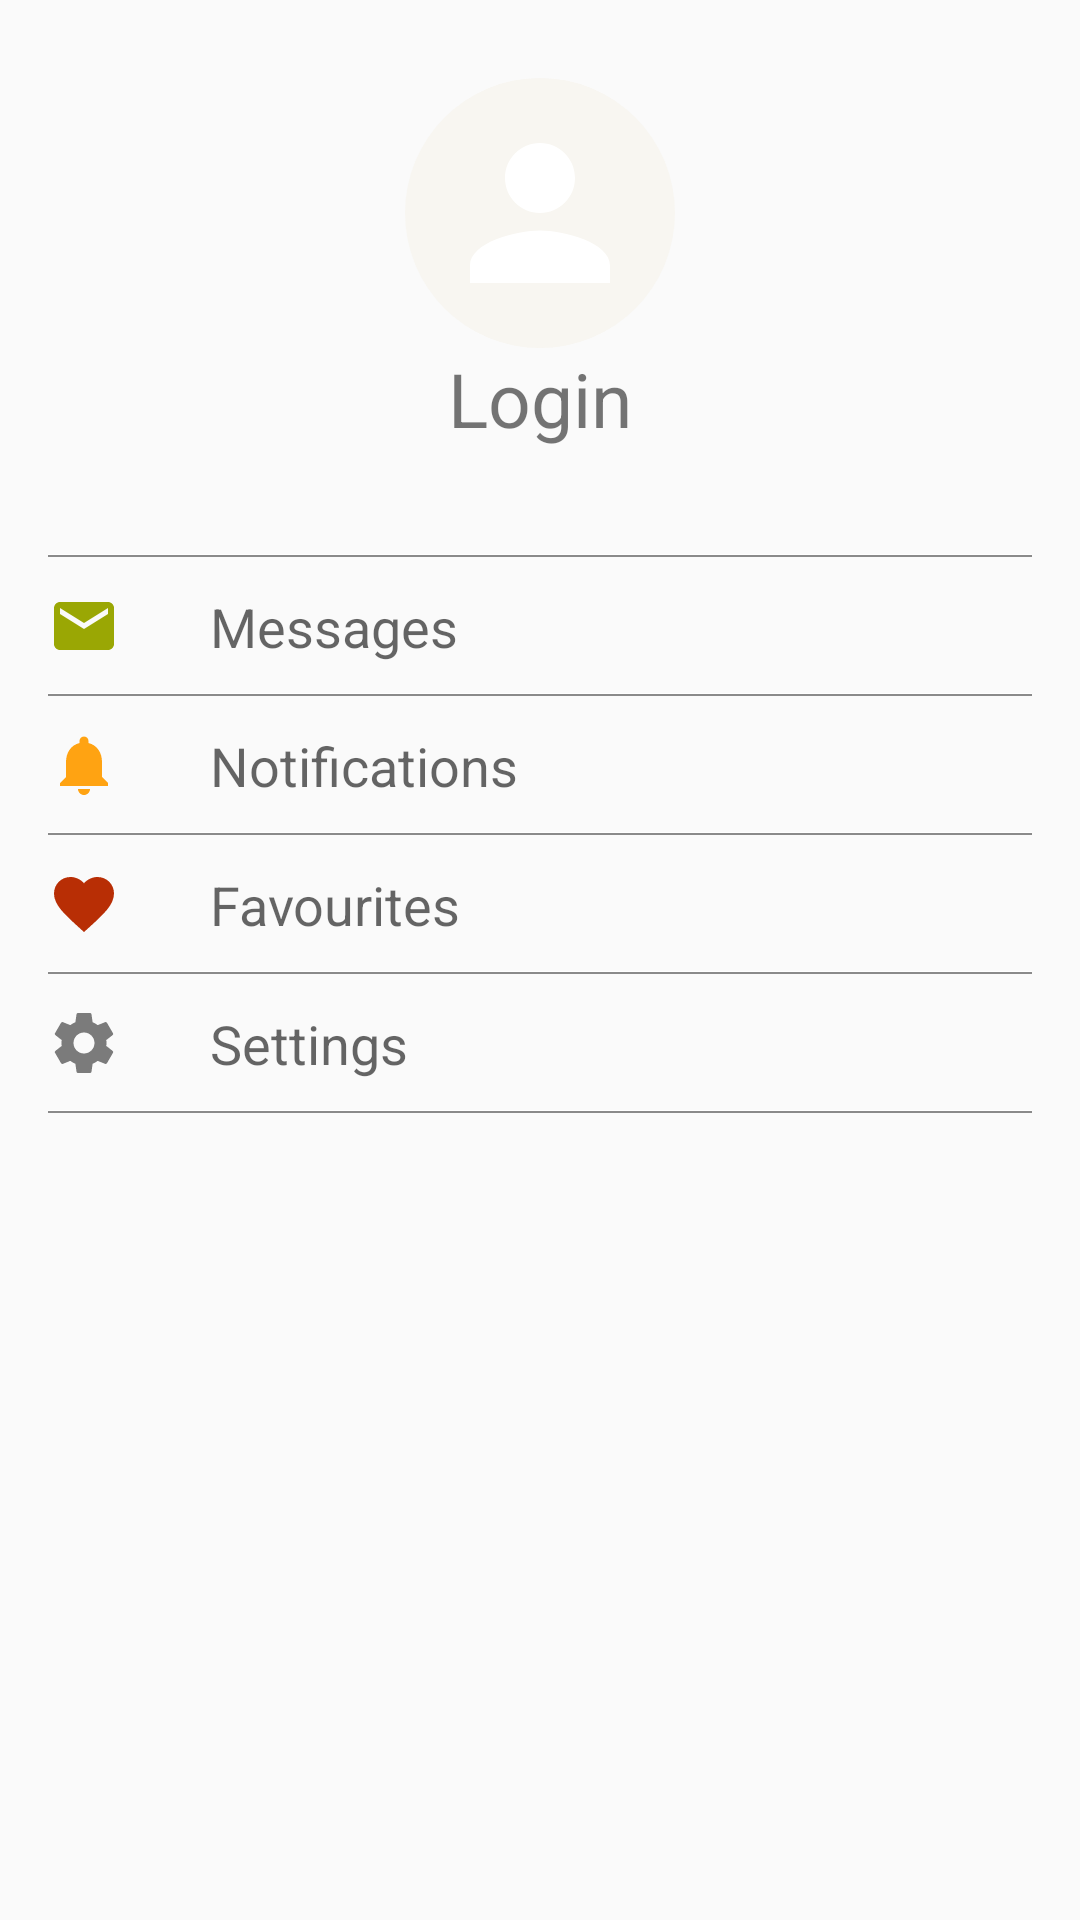

Screen size 1080x1920. Icon name, then its box in pixels as [x1,y1,x2,y2]:
email: [54,602,114,650]
favorite: [54,877,114,932]
